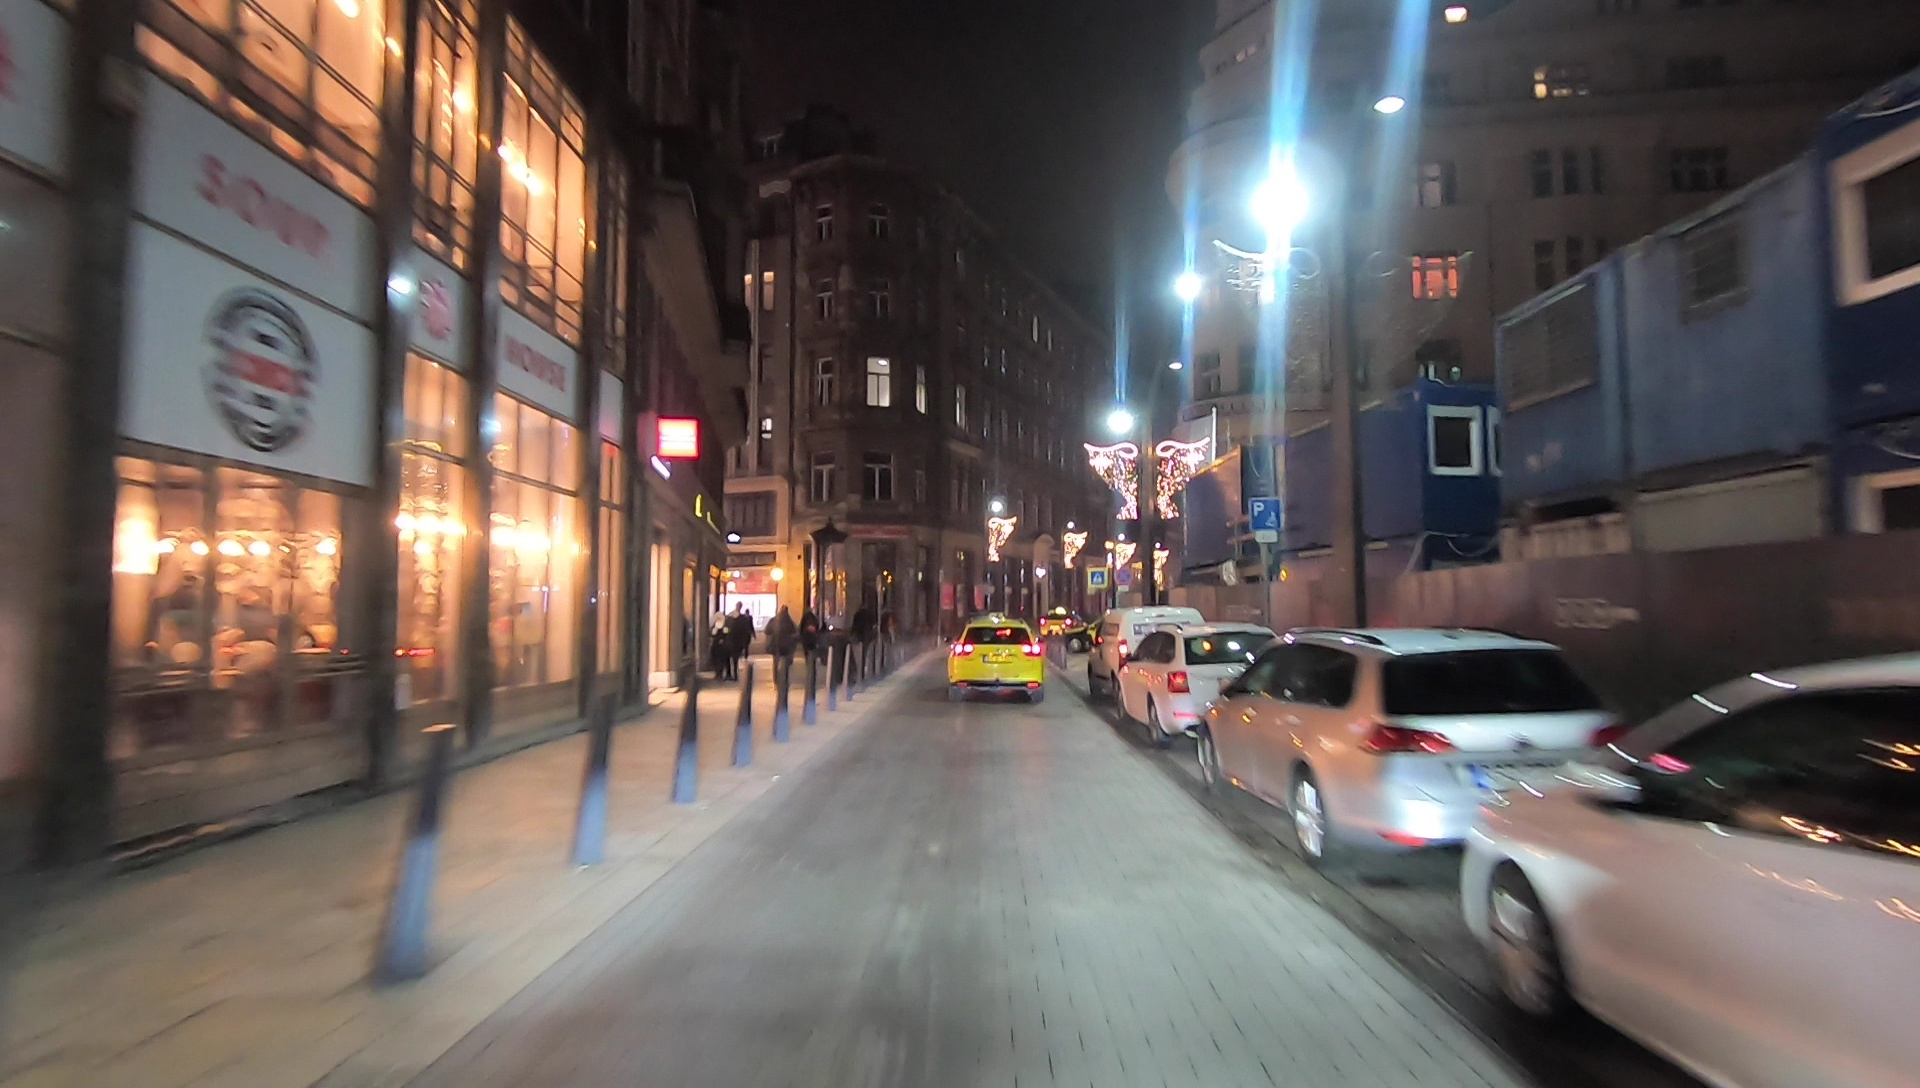person: (767, 602, 797, 693), (707, 612, 731, 684), (802, 602, 821, 683), (853, 605, 870, 674), (731, 600, 744, 687), (743, 609, 756, 664)
